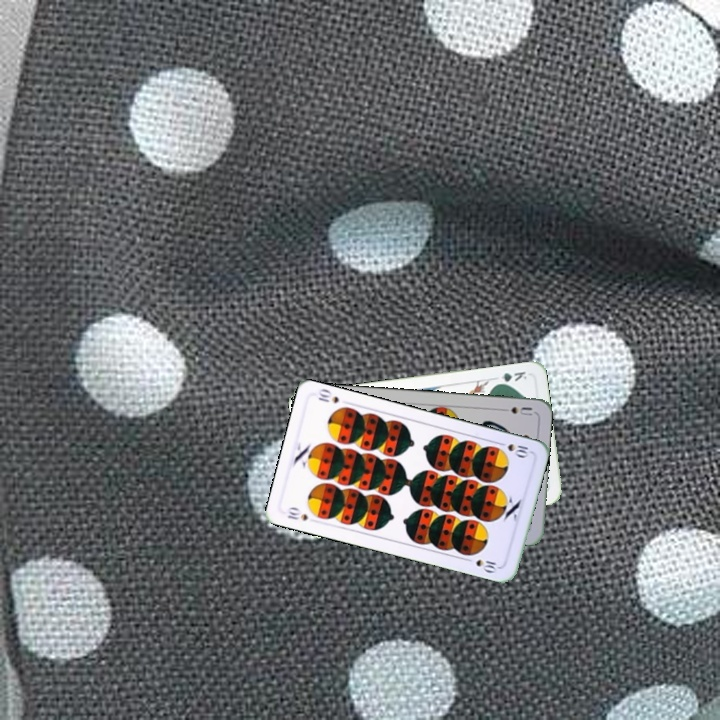GK: (491, 367, 529, 387)
S10: (493, 438, 533, 460), (283, 503, 311, 523)
SU: (495, 403, 535, 418)
